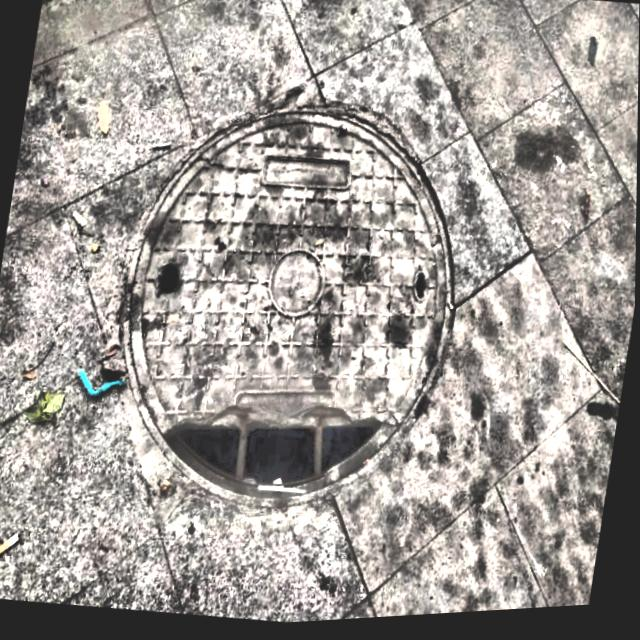open_manhole: (120, 106, 452, 498)
